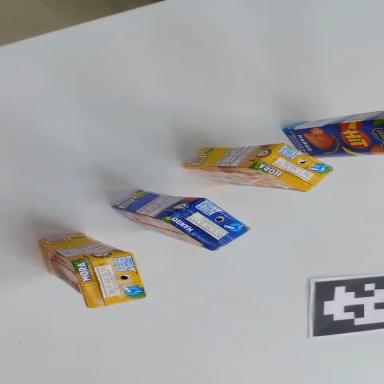HIT-MANGO: (110, 187, 252, 255), (283, 111, 384, 160)
HIT-MORA: (40, 218, 147, 318), (183, 138, 333, 193)
cara_F: (24, 240, 103, 307), (109, 207, 215, 250), (283, 119, 384, 161), (185, 168, 306, 192)
